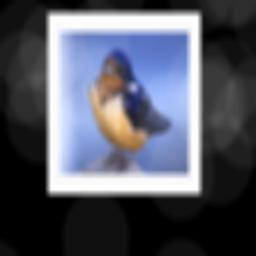Swallow: (85, 46, 185, 172)
